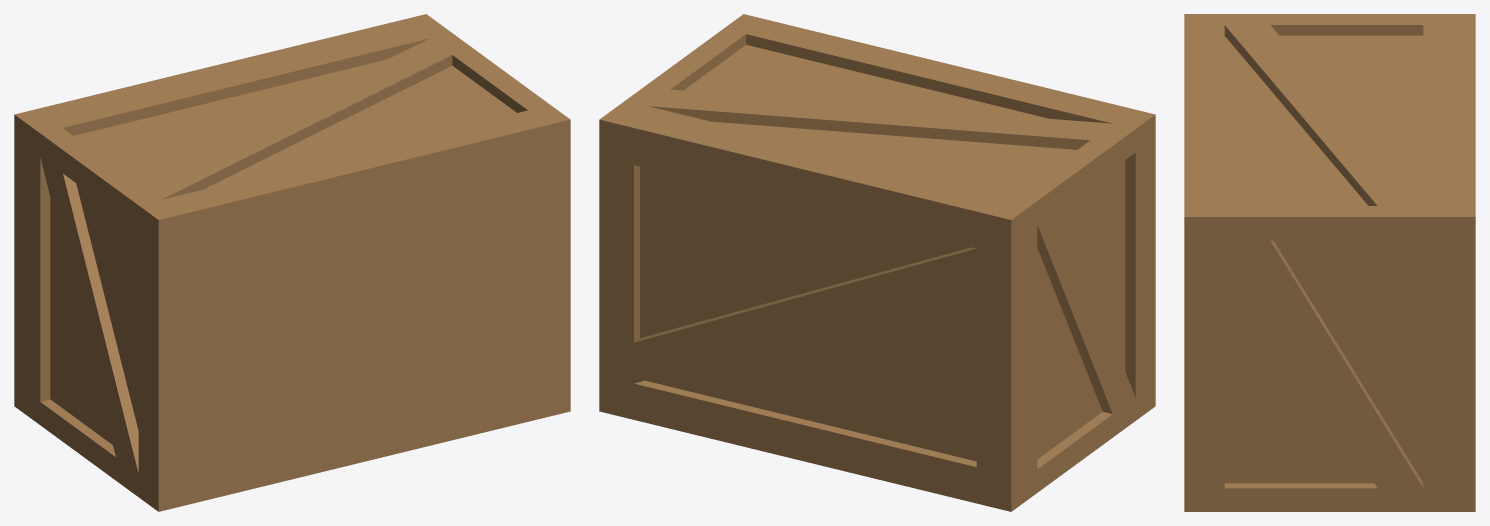
Rendered from Crate.fbx.
3 views of the same model, side by side, from view 1: azimuth 30°, elevation 25°; view 2: azimuth 150°, elevation 25°; view 3: azimuth 270°, elevation 25° (orthographic).
Visible parts, largest first — view 1: Crate, Crate_Lid; view 2: Crate_Lid, Crate; view 3: Crate, Crate_Lid.
Boxes of the visible parts, x1,y1,x2,y2 form: Crate: (20,18,570,511); Crate_Lid: (14,14,431,410); Crate_Lid: (599,115,1017,511); Crate: (605,14,1155,507); Crate: (1184,14,1463,511); Crate_Lid: (1464,14,1475,511).
Size of the model in its own units: 0.7964 by 0.5392 by 0.4832.
